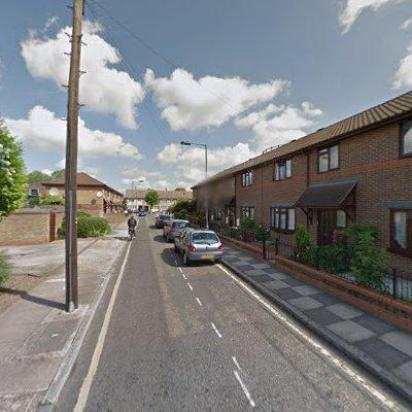stationary-car-onstreet: (174, 227, 224, 267), (162, 217, 191, 240)
